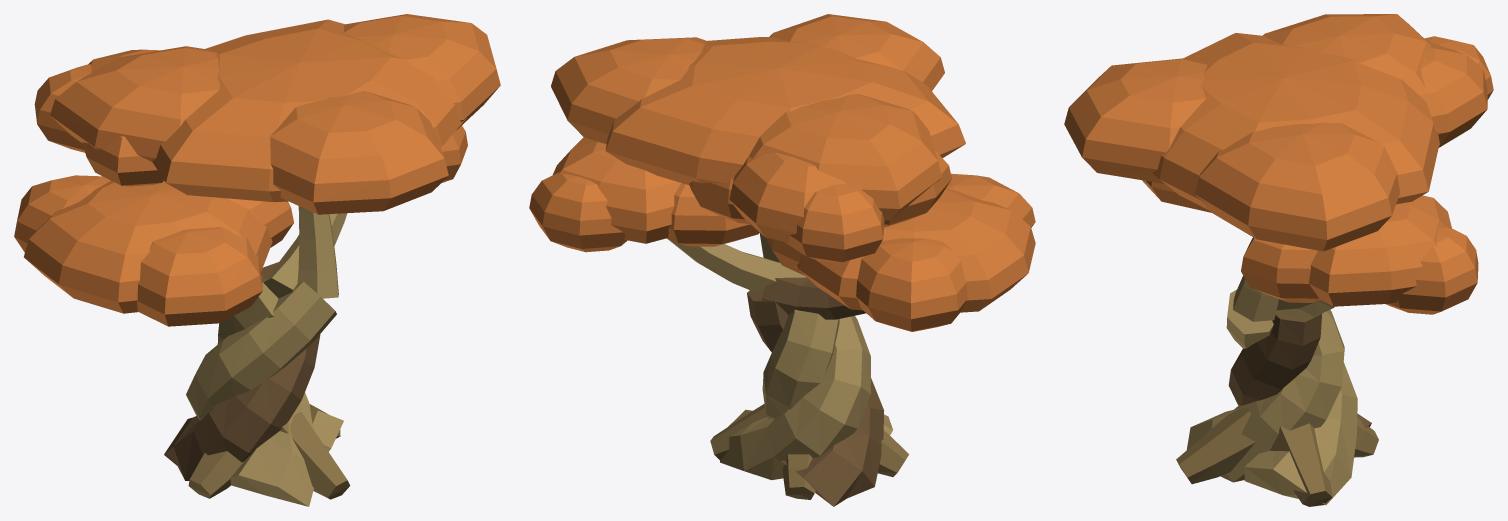
The model's file is tree_gauranlen_a.obj.
3 views of the same model, side by side, from view 1: azimuth 30°, elevation 25°; view 2: azimuth 150°, elevation 25°; view 3: azimuth 270°, elevation 25° (orthographic). The views are drawn at different scales.
Parts seen in each view (by area): view 1: tree_gauranlen_a_16, tree_gauranlen_a_19, tree_gauranlen_a_24, tree_gauranlen_a_18, tree_gauranlen_a_27, tree_gauranlen_a_0, tree_gauranlen_a_17, tree_gauranlen_a_1, tree_gauranlen_a_2, tree_gauranlen_a_7, tree_gauranlen_a_26, tree_gauranlen_a_6 (+6 smaller); view 2: tree_gauranlen_a_16, tree_gauranlen_a_18, tree_gauranlen_a_24, tree_gauranlen_a_0, tree_gauranlen_a_17, tree_gauranlen_a_26, tree_gauranlen_a_28, tree_gauranlen_a_1, tree_gauranlen_a_20, tree_gauranlen_a_19, tree_gauranlen_a_21, tree_gauranlen_a_2 (+11 smaller); view 3: tree_gauranlen_a_16, tree_gauranlen_a_17, tree_gauranlen_a_19, tree_gauranlen_a_28, tree_gauranlen_a_2, tree_gauranlen_a_18, tree_gauranlen_a_0, tree_gauranlen_a_1, tree_gauranlen_a_20, tree_gauranlen_a_29, tree_gauranlen_a_31, tree_gauranlen_a_6 (+6 smaller).
Boxes of the visible parts, x1,y1,x2,y2 form: tree_gauranlen_a_16: (152, 19, 466, 202); tree_gauranlen_a_19: (270, 91, 448, 214); tree_gauranlen_a_24: (24, 180, 272, 313); tree_gauranlen_a_18: (50, 46, 219, 161); tree_gauranlen_a_27: (137, 227, 262, 326); tree_gauranlen_a_0: (186, 281, 343, 451); tree_gauranlen_a_17: (343, 14, 500, 130); tree_gauranlen_a_1: (164, 334, 320, 480); tree_gauranlen_a_2: (217, 276, 313, 506); tree_gauranlen_a_7: (297, 206, 338, 298); tree_gauranlen_a_26: (14, 175, 110, 252); tree_gauranlen_a_6: (280, 412, 350, 499); tree_gauranlen_a_16: (605, 37, 965, 185); tree_gauranlen_a_18: (748, 93, 941, 220); tree_gauranlen_a_24: (797, 189, 1035, 312); tree_gauranlen_a_0: (720, 315, 870, 479); tree_gauranlen_a_17: (551, 37, 706, 143); tree_gauranlen_a_26: (856, 238, 967, 331); tree_gauranlen_a_28: (553, 137, 680, 243); tree_gauranlen_a_1: (747, 290, 884, 506); tree_gauranlen_a_20: (729, 152, 845, 242); tree_gauranlen_a_19: (769, 14, 944, 90); tree_gauranlen_a_21: (785, 183, 884, 263); tree_gauranlen_a_2: (762, 309, 892, 435); tree_gauranlen_a_16: (1152, 33, 1439, 210); tree_gauranlen_a_17: (1195, 122, 1399, 251); tree_gauranlen_a_19: (1064, 58, 1207, 183); tree_gauranlen_a_28: (1309, 195, 1451, 306); tree_gauranlen_a_2: (1186, 310, 1344, 482); tree_gauranlen_a_18: (1263, 14, 1431, 94); tree_gauranlen_a_0: (1226, 289, 1357, 505); tree_gauranlen_a_1: (1228, 311, 1371, 434); tree_gauranlen_a_20: (1419, 41, 1487, 147); tree_gauranlen_a_29: (1385, 224, 1478, 314); tree_gauranlen_a_31: (1241, 237, 1320, 302); tree_gauranlen_a_6: (1176, 405, 1255, 484).
Bounding box in the file's own units: 1.1 × 0.91 × 0.8689.
